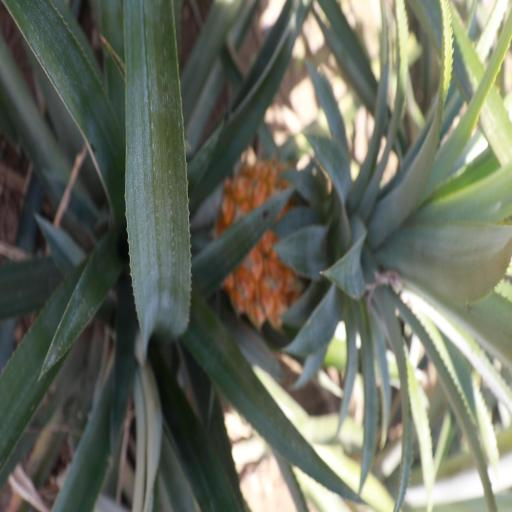Pineapple - v8 v1: (227, 158, 512, 333)
